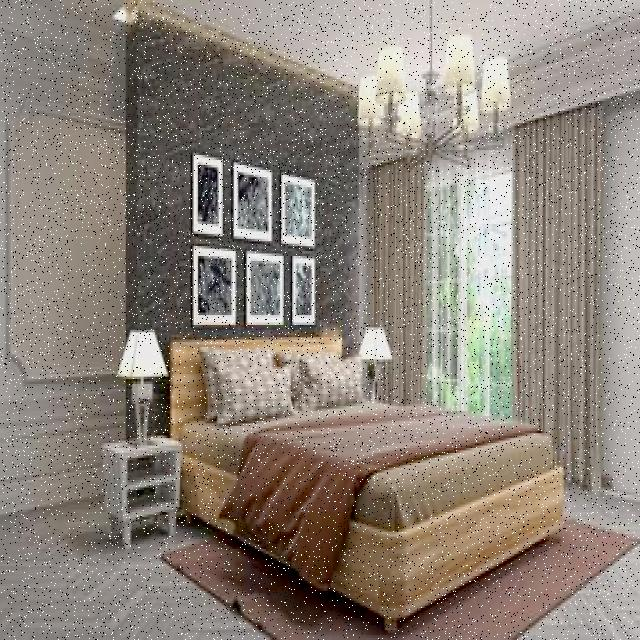bed: (186, 333, 573, 607)
